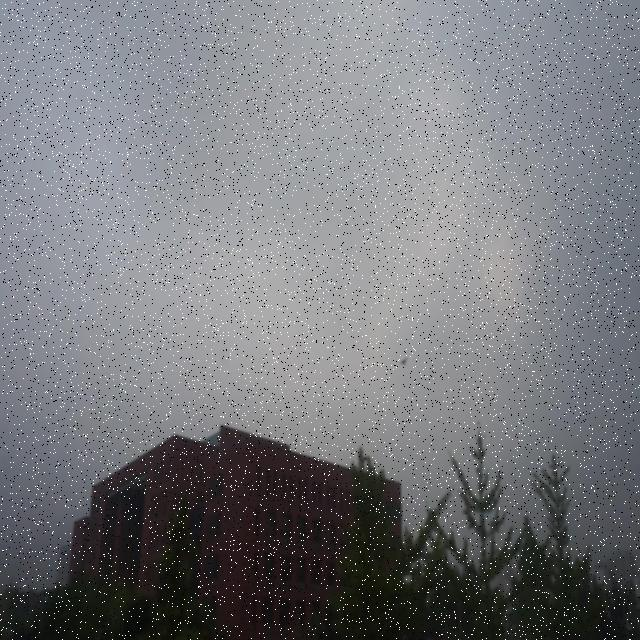UAV: (399, 356, 408, 367)
